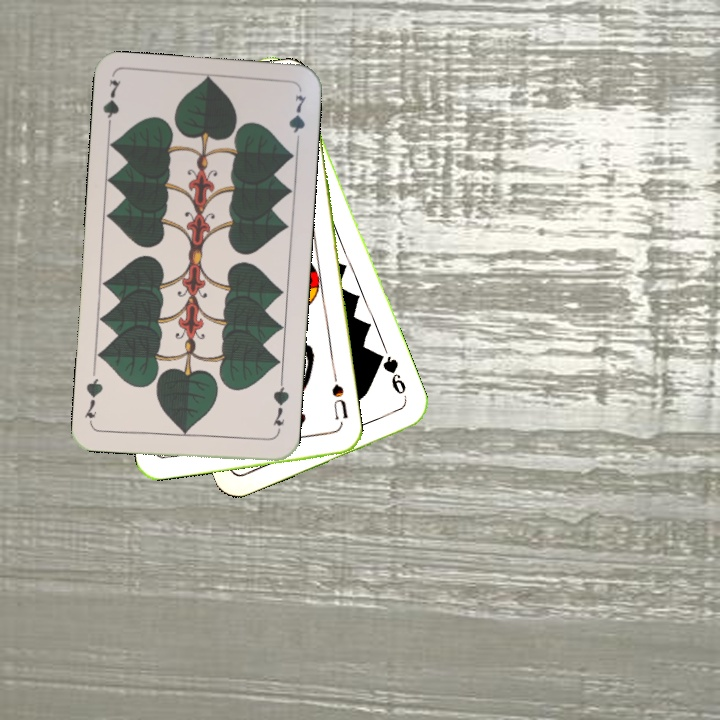G7: (99, 76, 124, 135), (269, 377, 292, 437)
G9: (375, 350, 410, 404)
SU: (327, 380, 350, 429)
